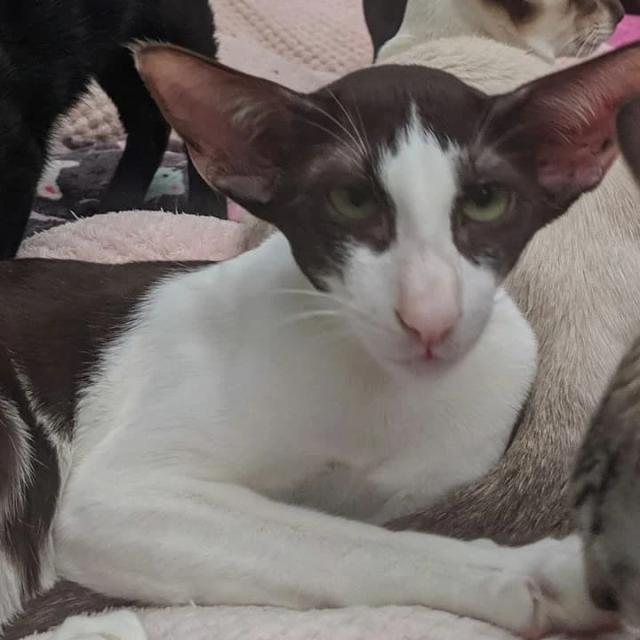Oriental: (0, 26, 640, 640)
